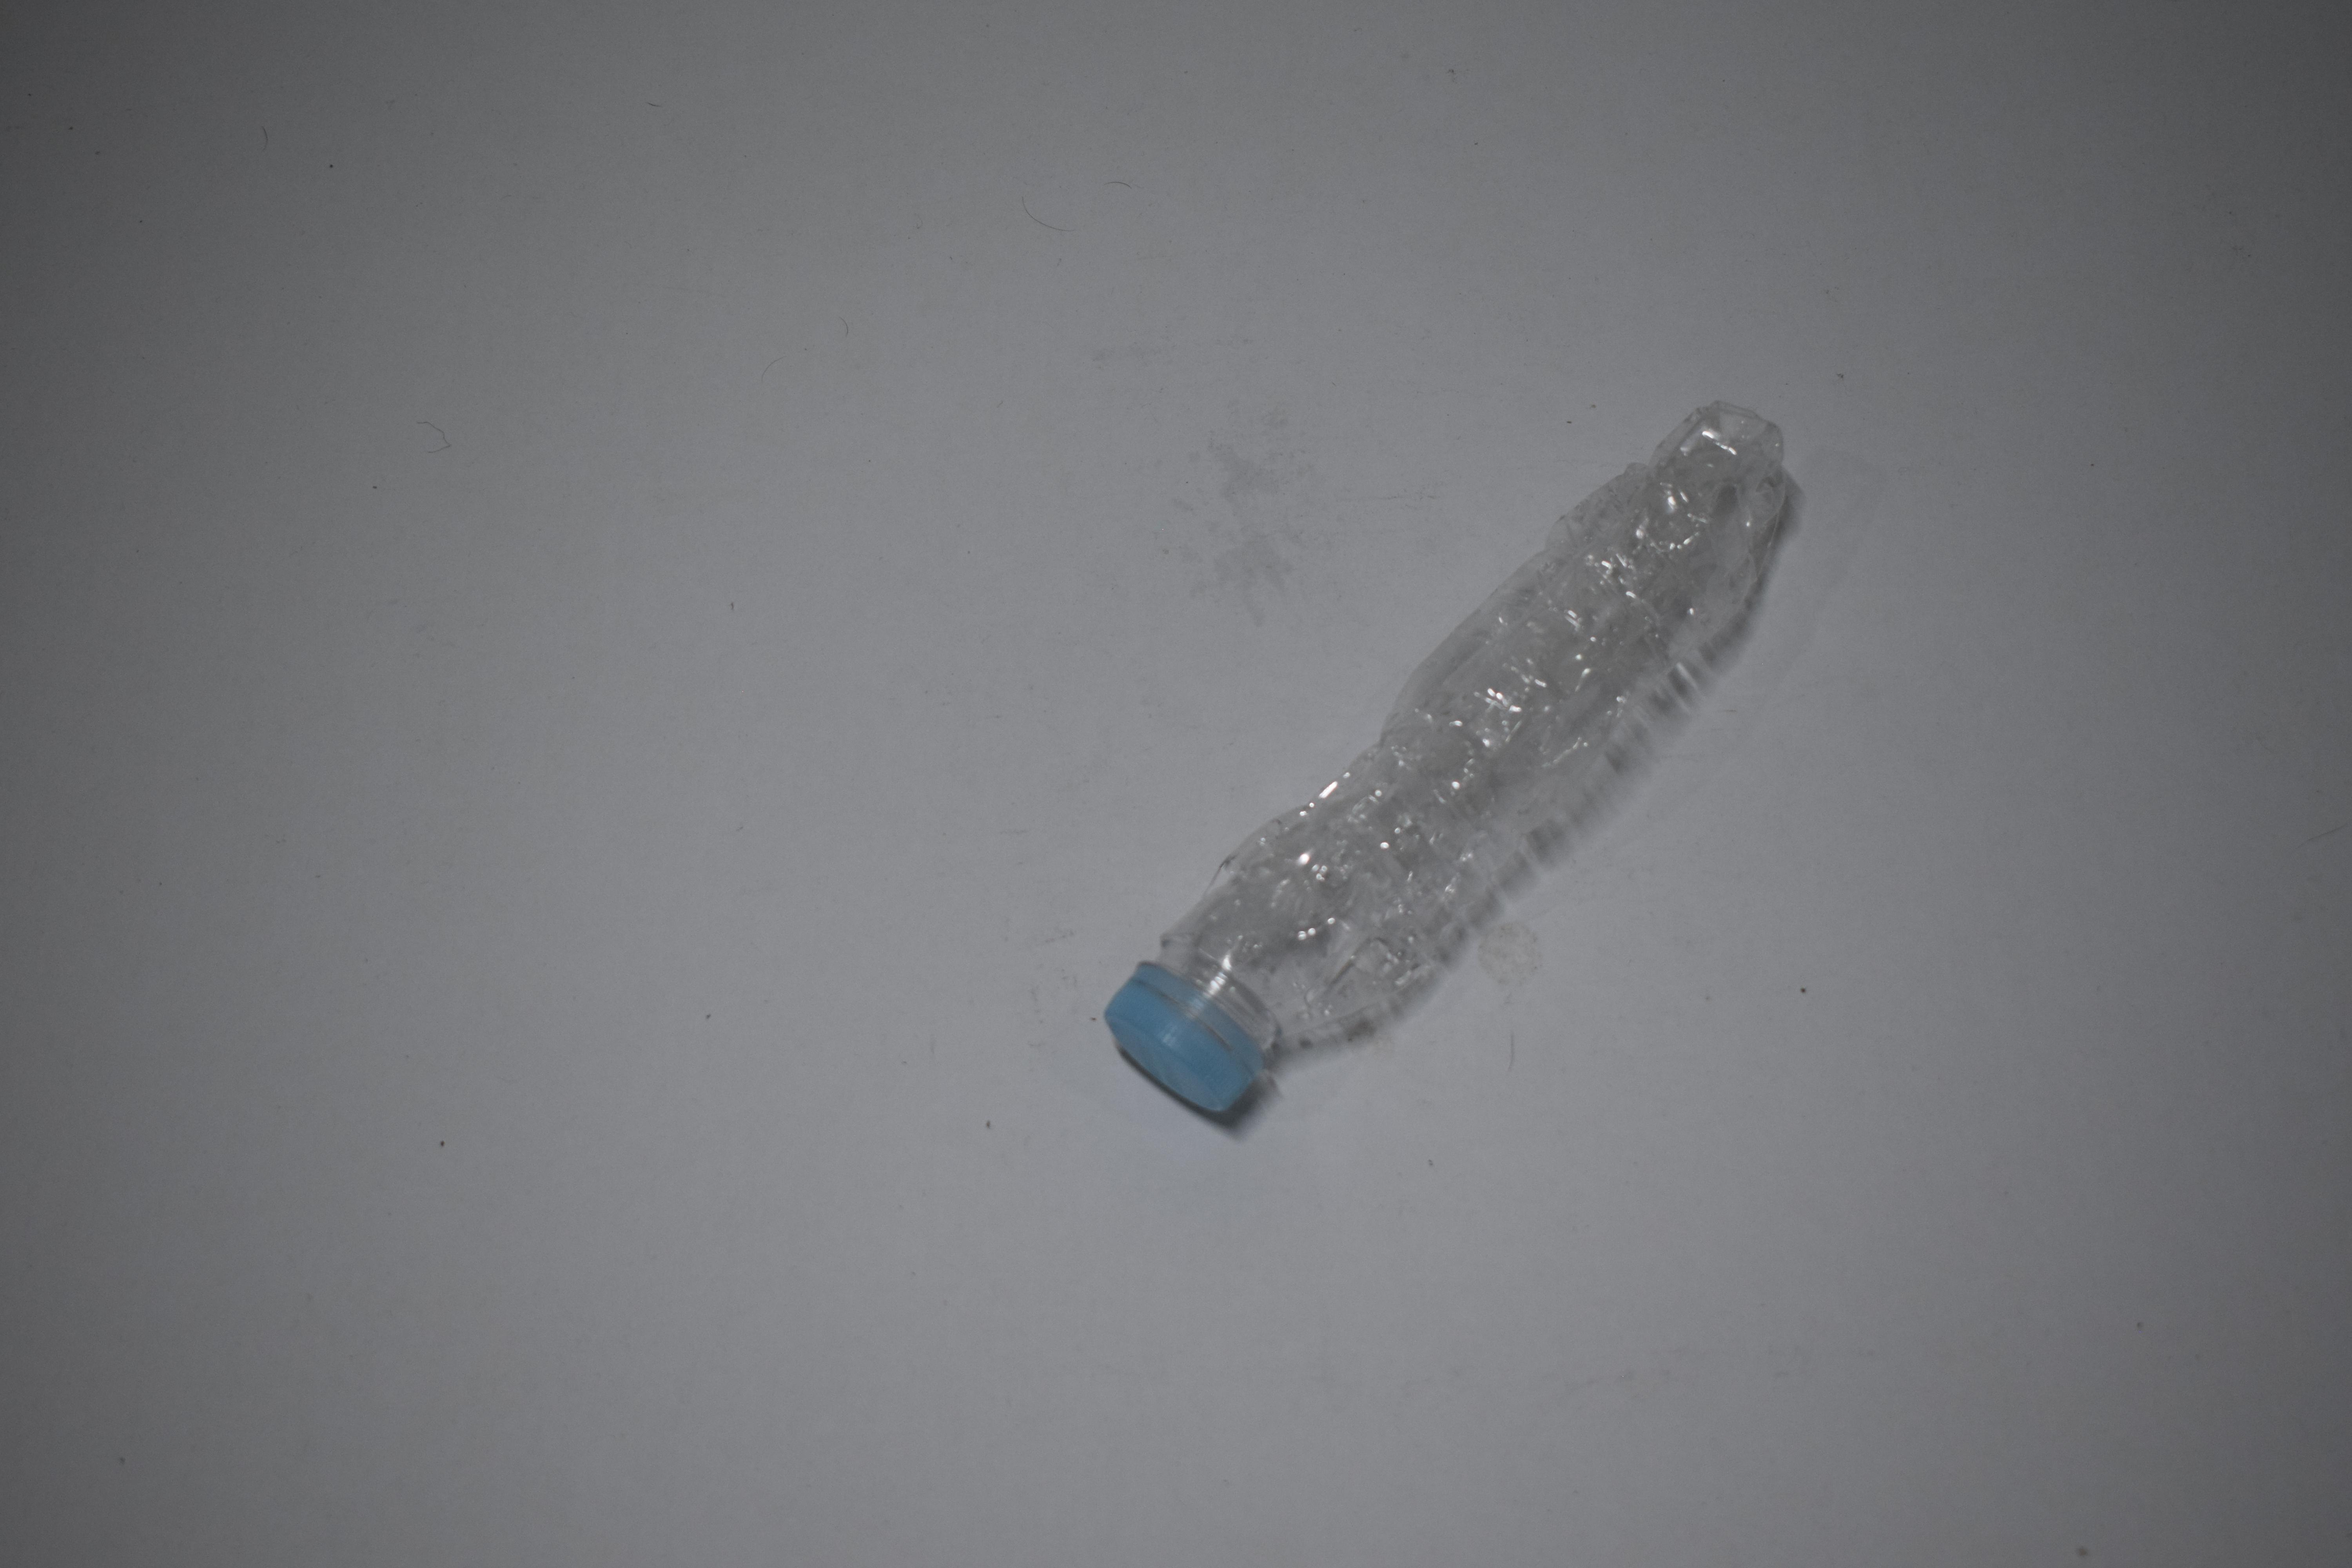bottle: (1097, 392, 1803, 1132)
